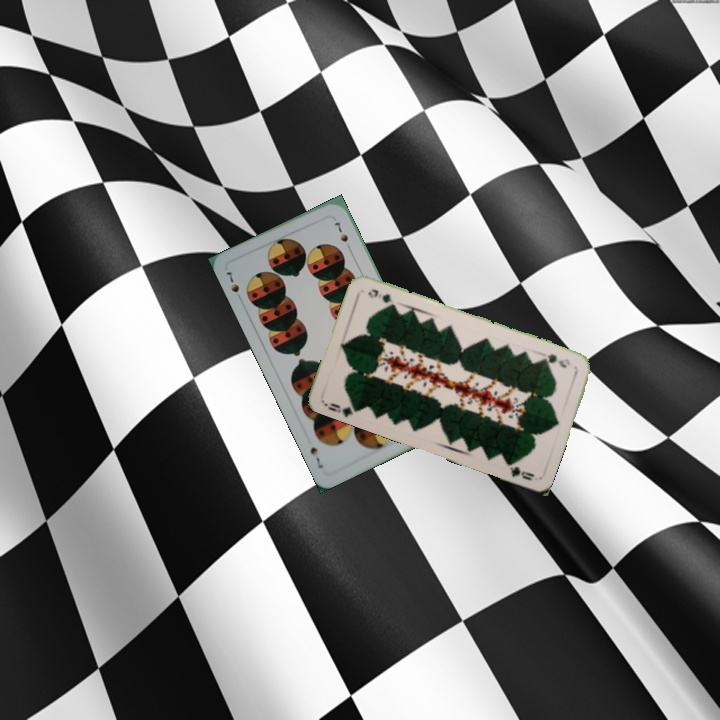G9: (320, 398, 361, 419), (538, 350, 573, 370)
S7: (221, 267, 245, 304)
